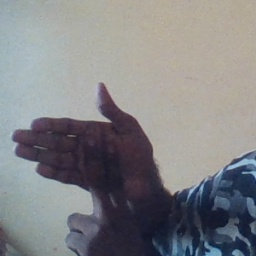N: (9, 81, 172, 238)
